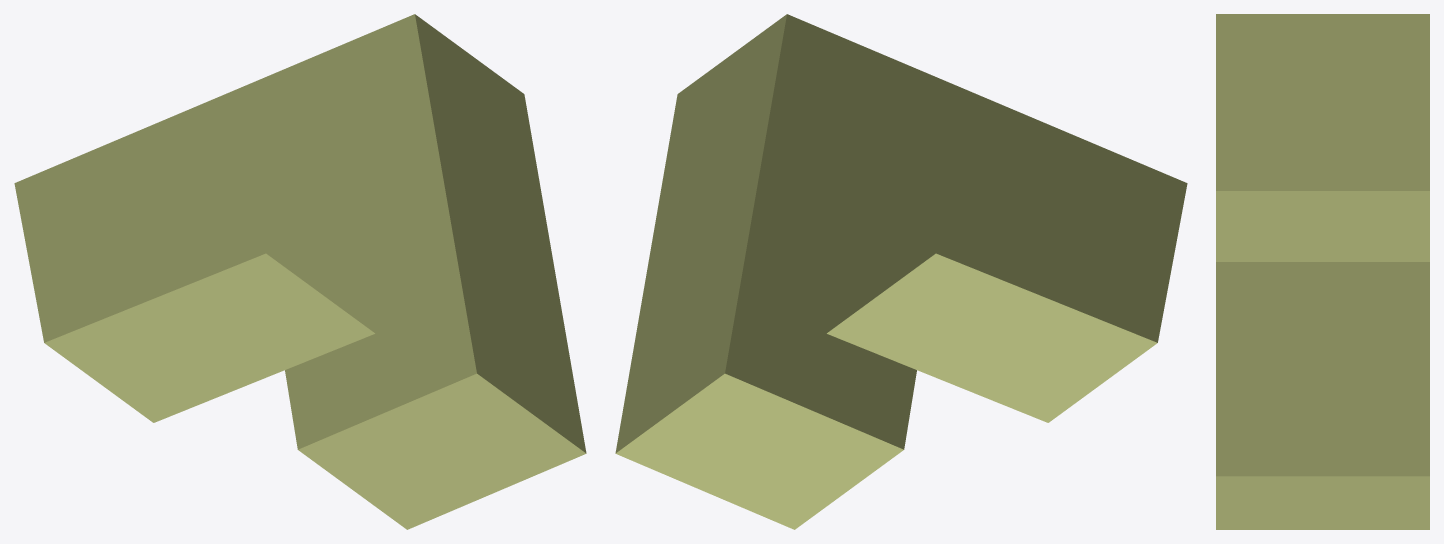
3 renders of one model, left to right at view 1: azimuth 30°, elevation 25°; view 2: azimuth 150°, elevation 25°; view 3: azimuth 270°, elevation 25°, orthographic. The views are drawn at different scales.
Parts seen in each view (by area): view 1: 0_1_3_2_1_2_2_1_1_3; view 2: 0_1_3_2_1_2_2_1_1_3; view 3: 0_1_3_2_1_2_2_1_1_3.
Boxes of the visible parts, x1,y1,x2,y2 form: 0_1_3_2_1_2_2_1_1_3: (14, 14, 586, 529); 0_1_3_2_1_2_2_1_1_3: (615, 14, 1187, 529); 0_1_3_2_1_2_2_1_1_3: (1216, 14, 1429, 529).
Size of the model in its own units: 14.63 by 12.31 by 6.
